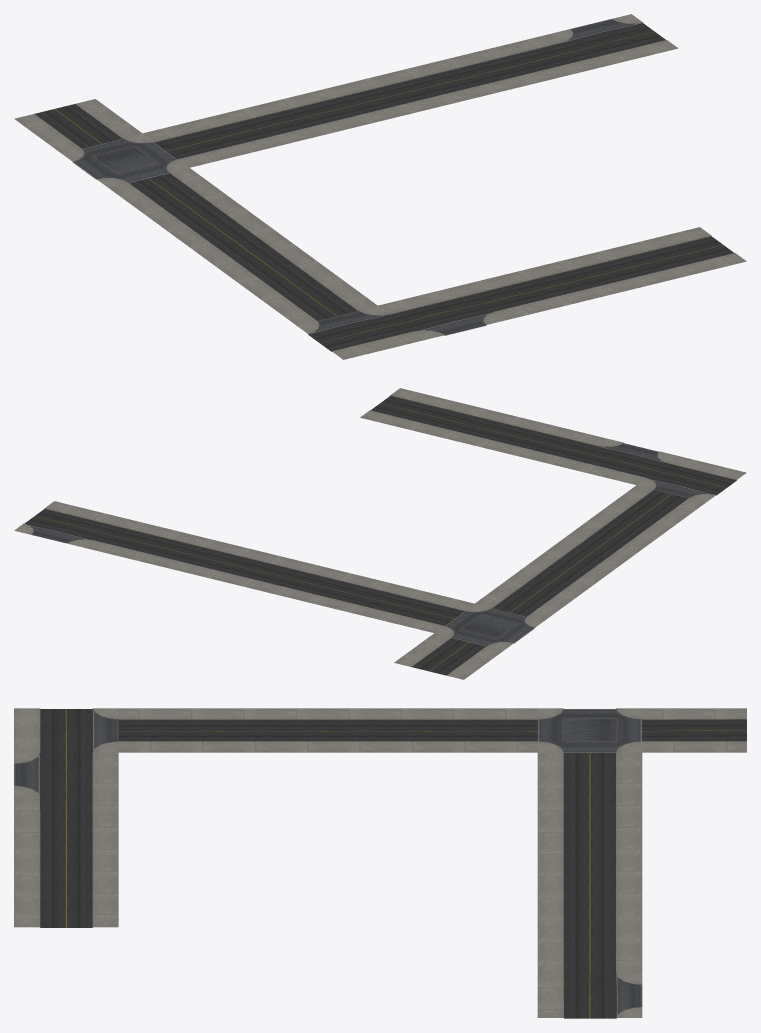
Rendered from vegasnroad04.obj.
The picture shows the model from 3 angles, top to bottom: view 1: azimuth 30°, elevation 25°; view 2: azimuth 150°, elevation 25°; view 3: azimuth 270°, elevation 25°; orthographic projection. The views are drawn at different scales.
Visible parts, largest first — view 1: vegasNroad04; view 2: vegasNroad04; view 3: vegasNroad04.
Boxes of the visible parts, box(x1,y1,x2,y2) form: vegasNroad04: box(14, 14, 746, 359); vegasNroad04: box(14, 388, 746, 679); vegasNroad04: box(14, 708, 746, 1018).
Size of the model in its own units: 140 by 0.4335 by 140.
Materials: 4 (4 with a texture image).
